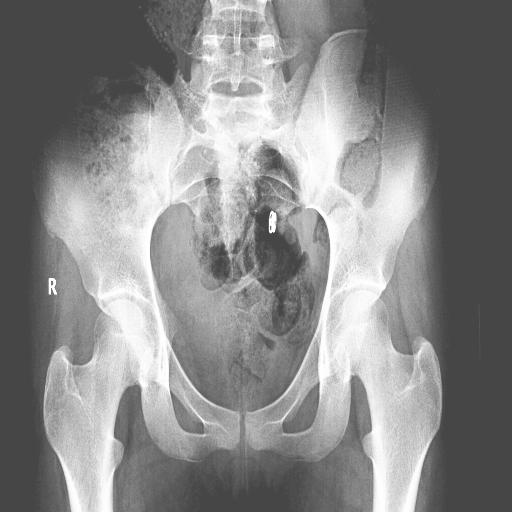normal: (331, 290, 442, 512), (43, 299, 154, 512)
